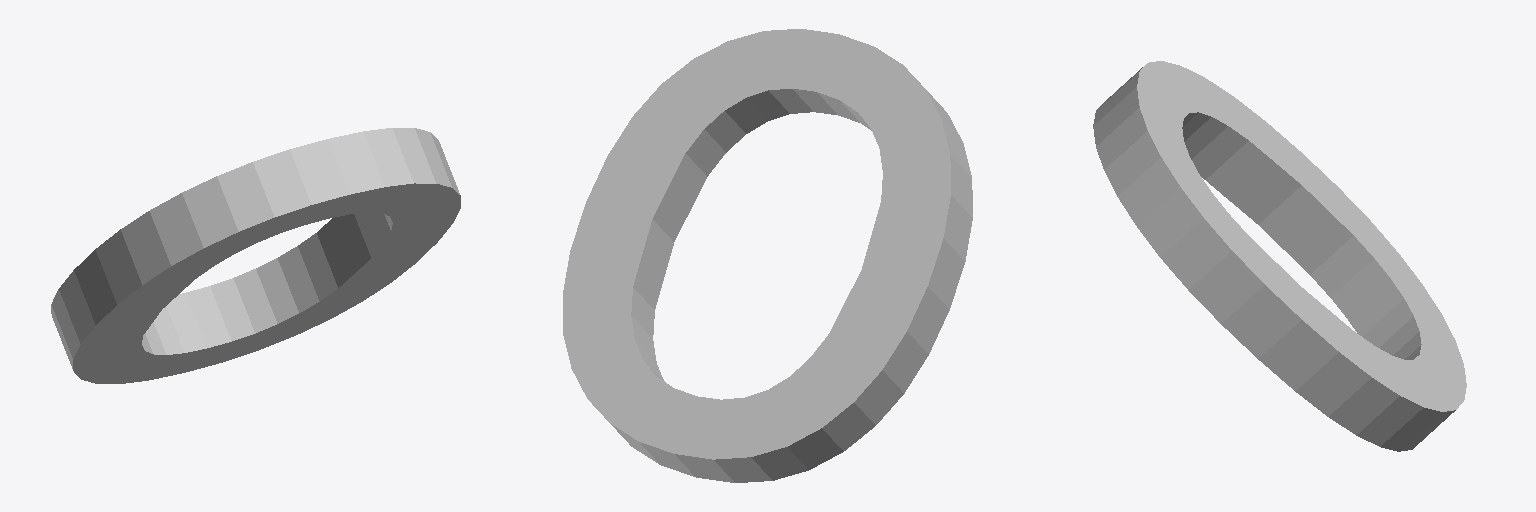
File: original-7.obj
The picture shows the model from 3 angles: view 1: azimuth 30°, elevation 25°; view 2: azimuth 150°, elevation 25°; view 3: azimuth 270°, elevation 25°; orthographic projection.
Visible parts, largest first — view 1: mesh5/mesh5-geometry#mesh5-geometry; view 2: mesh5/mesh5-geometry#mesh5-geometry; view 3: mesh5/mesh5-geometry#mesh5-geometry.
Boxes of the visible parts, x1=… form: mesh5/mesh5-geometry#mesh5-geometry: x1=51, y1=128, x2=460, y2=383; mesh5/mesh5-geometry#mesh5-geometry: x1=563, y1=29, x2=972, y2=482; mesh5/mesh5-geometry#mesh5-geometry: x1=1093, y1=61, x2=1466, y2=451.
Bounding box in the file's own units: 0.065 × 0.0615 × 0.0615.